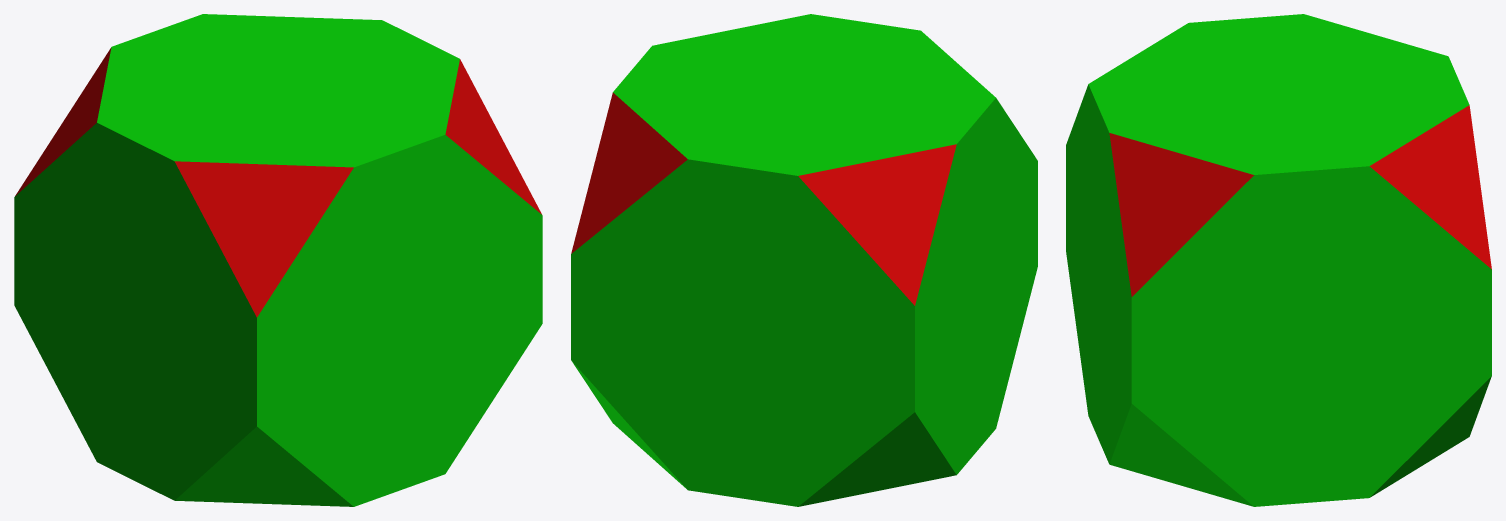
File: anim_cube_000042.obj
3 renders of one model, left to right at view 1: azimuth 30°, elevation 25°; view 2: azimuth 150°, elevation 25°; view 3: azimuth 270°, elevation 25°, orthographic. The views are drawn at different scales.
Visible parts, largest first — view 1: Cube_Cube.002_Material.002, Cube_Cube.002_Material.001; view 2: Cube_Cube.002_Material.002, Cube_Cube.002_Material.001; view 3: Cube_Cube.002_Material.002, Cube_Cube.002_Material.001.
Boxes of the visible parts, x1,y1,x2,y2 form: Cube_Cube.002_Material.002: (14, 14, 542, 506); Cube_Cube.002_Material.001: (15, 47, 541, 317); Cube_Cube.002_Material.002: (571, 14, 1037, 506); Cube_Cube.002_Material.001: (571, 92, 956, 305); Cube_Cube.002_Material.002: (1066, 14, 1491, 506); Cube_Cube.002_Material.001: (1109, 105, 1491, 296).
Bounding box in the file's own units: 3.6 × 3.09 × 3.6.
